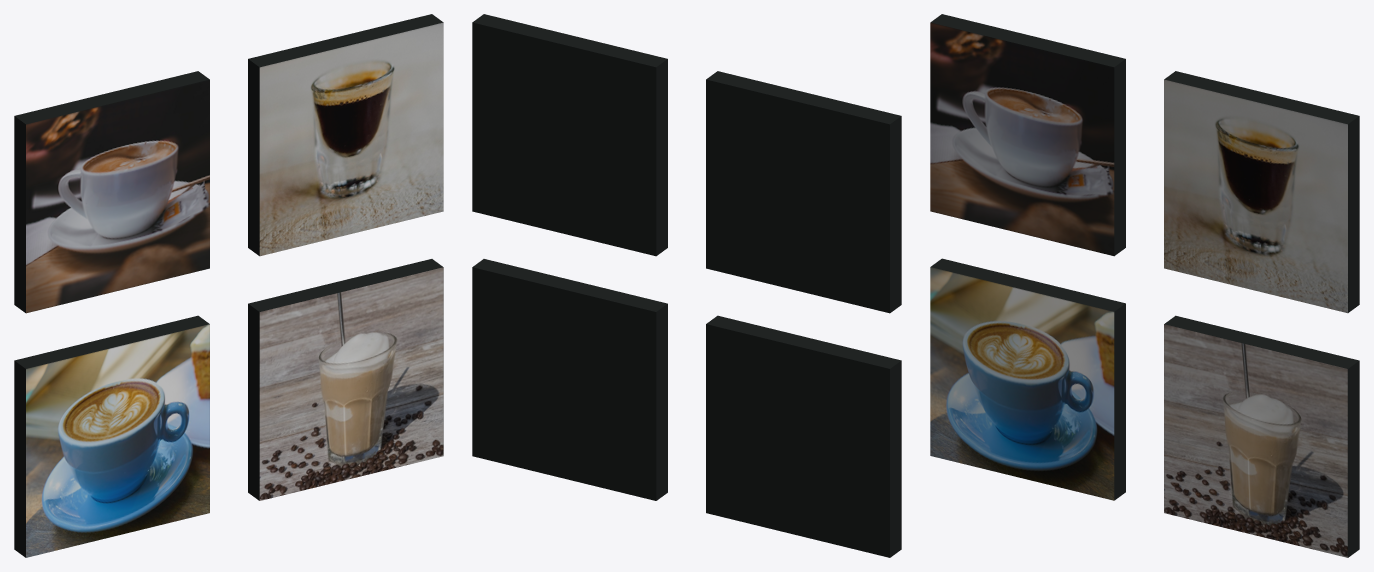
File: Pictures 1.FBX
3 renders of one model, left to right at view 1: azimuth 30°, elevation 25°; view 2: azimuth 150°, elevation 25°; view 3: azimuth 330°, elevation 25°, orthographic.
Visible parts, largest first — view 1: Picture 2, Picture 3, Picture 4, Picture 1; view 2: Picture 2, Picture 3, Picture 4, Picture 1; view 3: Picture 1, Picture 4, Picture 2, Picture 3.
Part boxes in pixels (box(x1,y1,x2,y2)): Picture 2: box(248, 14, 443, 256); Picture 3: box(14, 315, 209, 557); Picture 4: box(248, 259, 443, 500); Picture 1: box(14, 71, 209, 313); Picture 2: box(472, 14, 667, 256); Picture 3: box(706, 315, 901, 557); Picture 4: box(472, 259, 667, 500); Picture 1: box(706, 71, 901, 313); Picture 1: box(930, 14, 1125, 256); Picture 4: box(1164, 315, 1359, 557); Picture 2: box(1164, 71, 1359, 313); Picture 3: box(930, 258, 1125, 500).
Size of the model in its own units: 80.31 by 79.69 by 3.86.
1 material, 1 textured.
